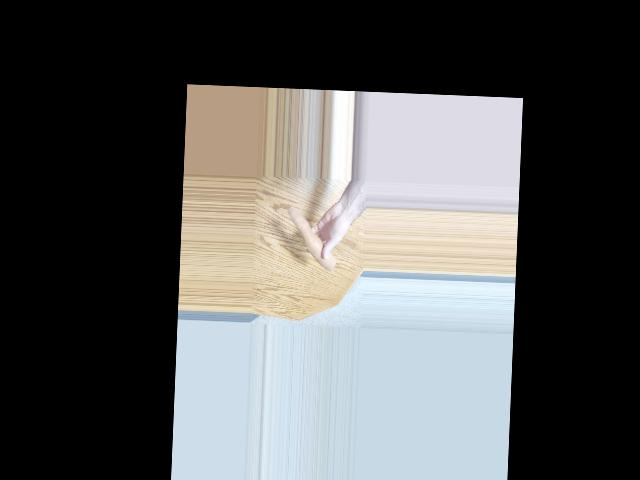sweet_potato: (287, 207, 339, 265)
